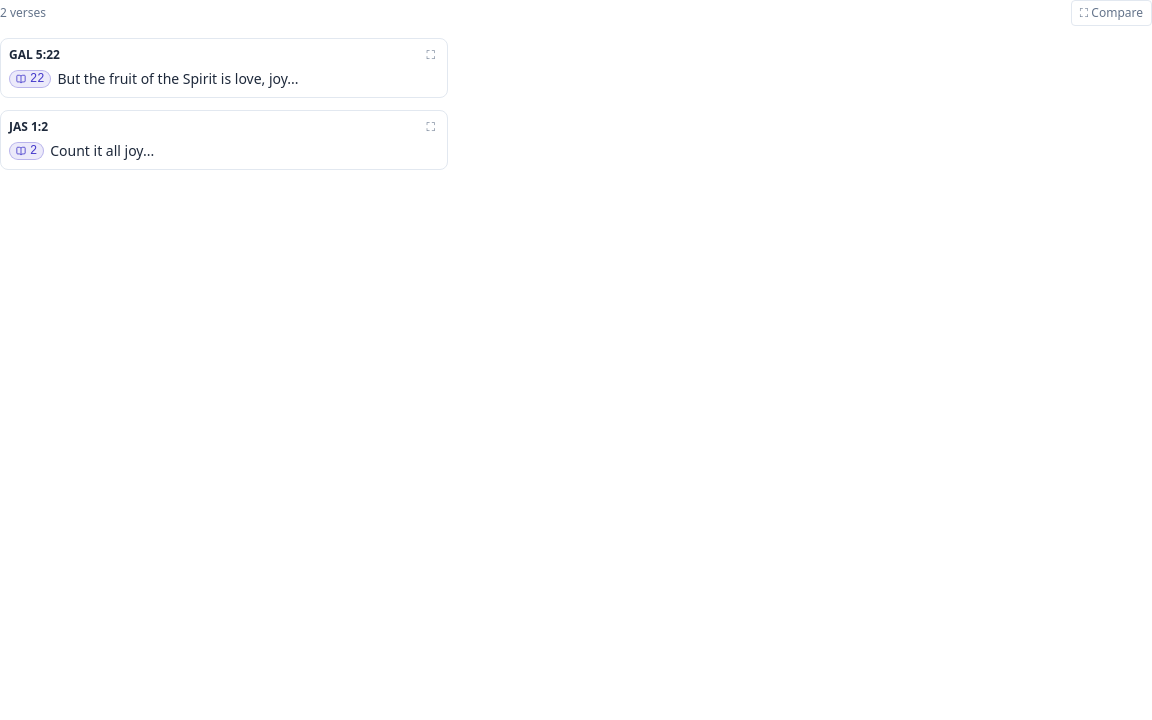
VerseGroupBubble › opens a fullscreen view with every verse when Compare is clicked
Click the button "⛶ Compare". click: {"x": 1111, "y": 13}
box: [1071, 0, 1151, 26]
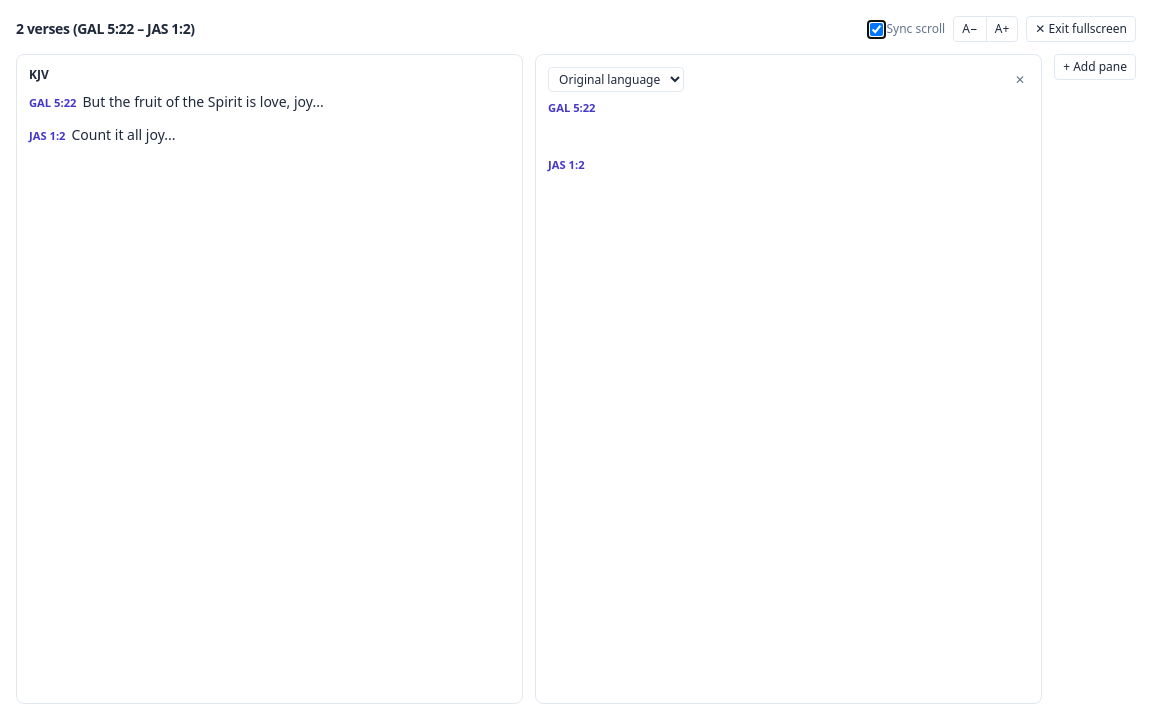
Expected: the element named "original view" shows "But the fruit of the Spirit is love, joy...", [82, 92, 324, 111]
Expected: the element named "original view" shows "Count it all joy...", [72, 125, 176, 144]
